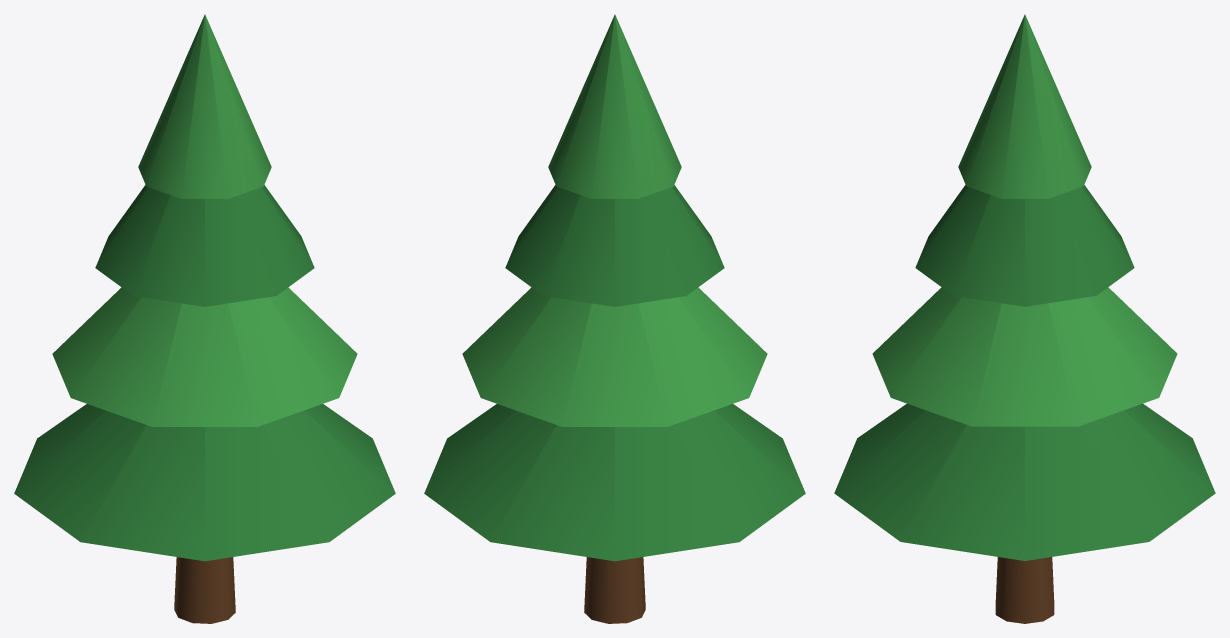
Rendered from PineTree.obj.
3 renders of one model, left to right at view 1: azimuth 30°, elevation 25°; view 2: azimuth 150°, elevation 25°; view 3: azimuth 270°, elevation 25°, orthographic.
Visible parts, largest first — view 1: Layer0, Layer1, Layer2, Layer3, Trunk; view 2: Layer0, Layer1, Layer2, Layer3, Trunk; view 3: Layer0, Layer1, Layer2, Layer3, Trunk.
Boxes of the visible parts, x1,y1,x2,y2 form: Layer0: [14, 404, 395, 561]; Layer1: [52, 287, 357, 426]; Layer2: [95, 185, 314, 306]; Layer3: [138, 14, 271, 198]; Trunk: [174, 557, 235, 623]; Layer0: [424, 404, 805, 561]; Layer1: [462, 287, 767, 426]; Layer2: [505, 185, 724, 306]; Layer3: [548, 14, 681, 198]; Trunk: [584, 557, 645, 623]; Layer0: [834, 403, 1215, 560]; Layer1: [872, 287, 1177, 426]; Layer2: [915, 185, 1134, 306]; Layer3: [958, 14, 1091, 198]; Trunk: [995, 557, 1054, 623].
Bounding box in the file's own units: 3.88 × 6.8 × 3.94.
